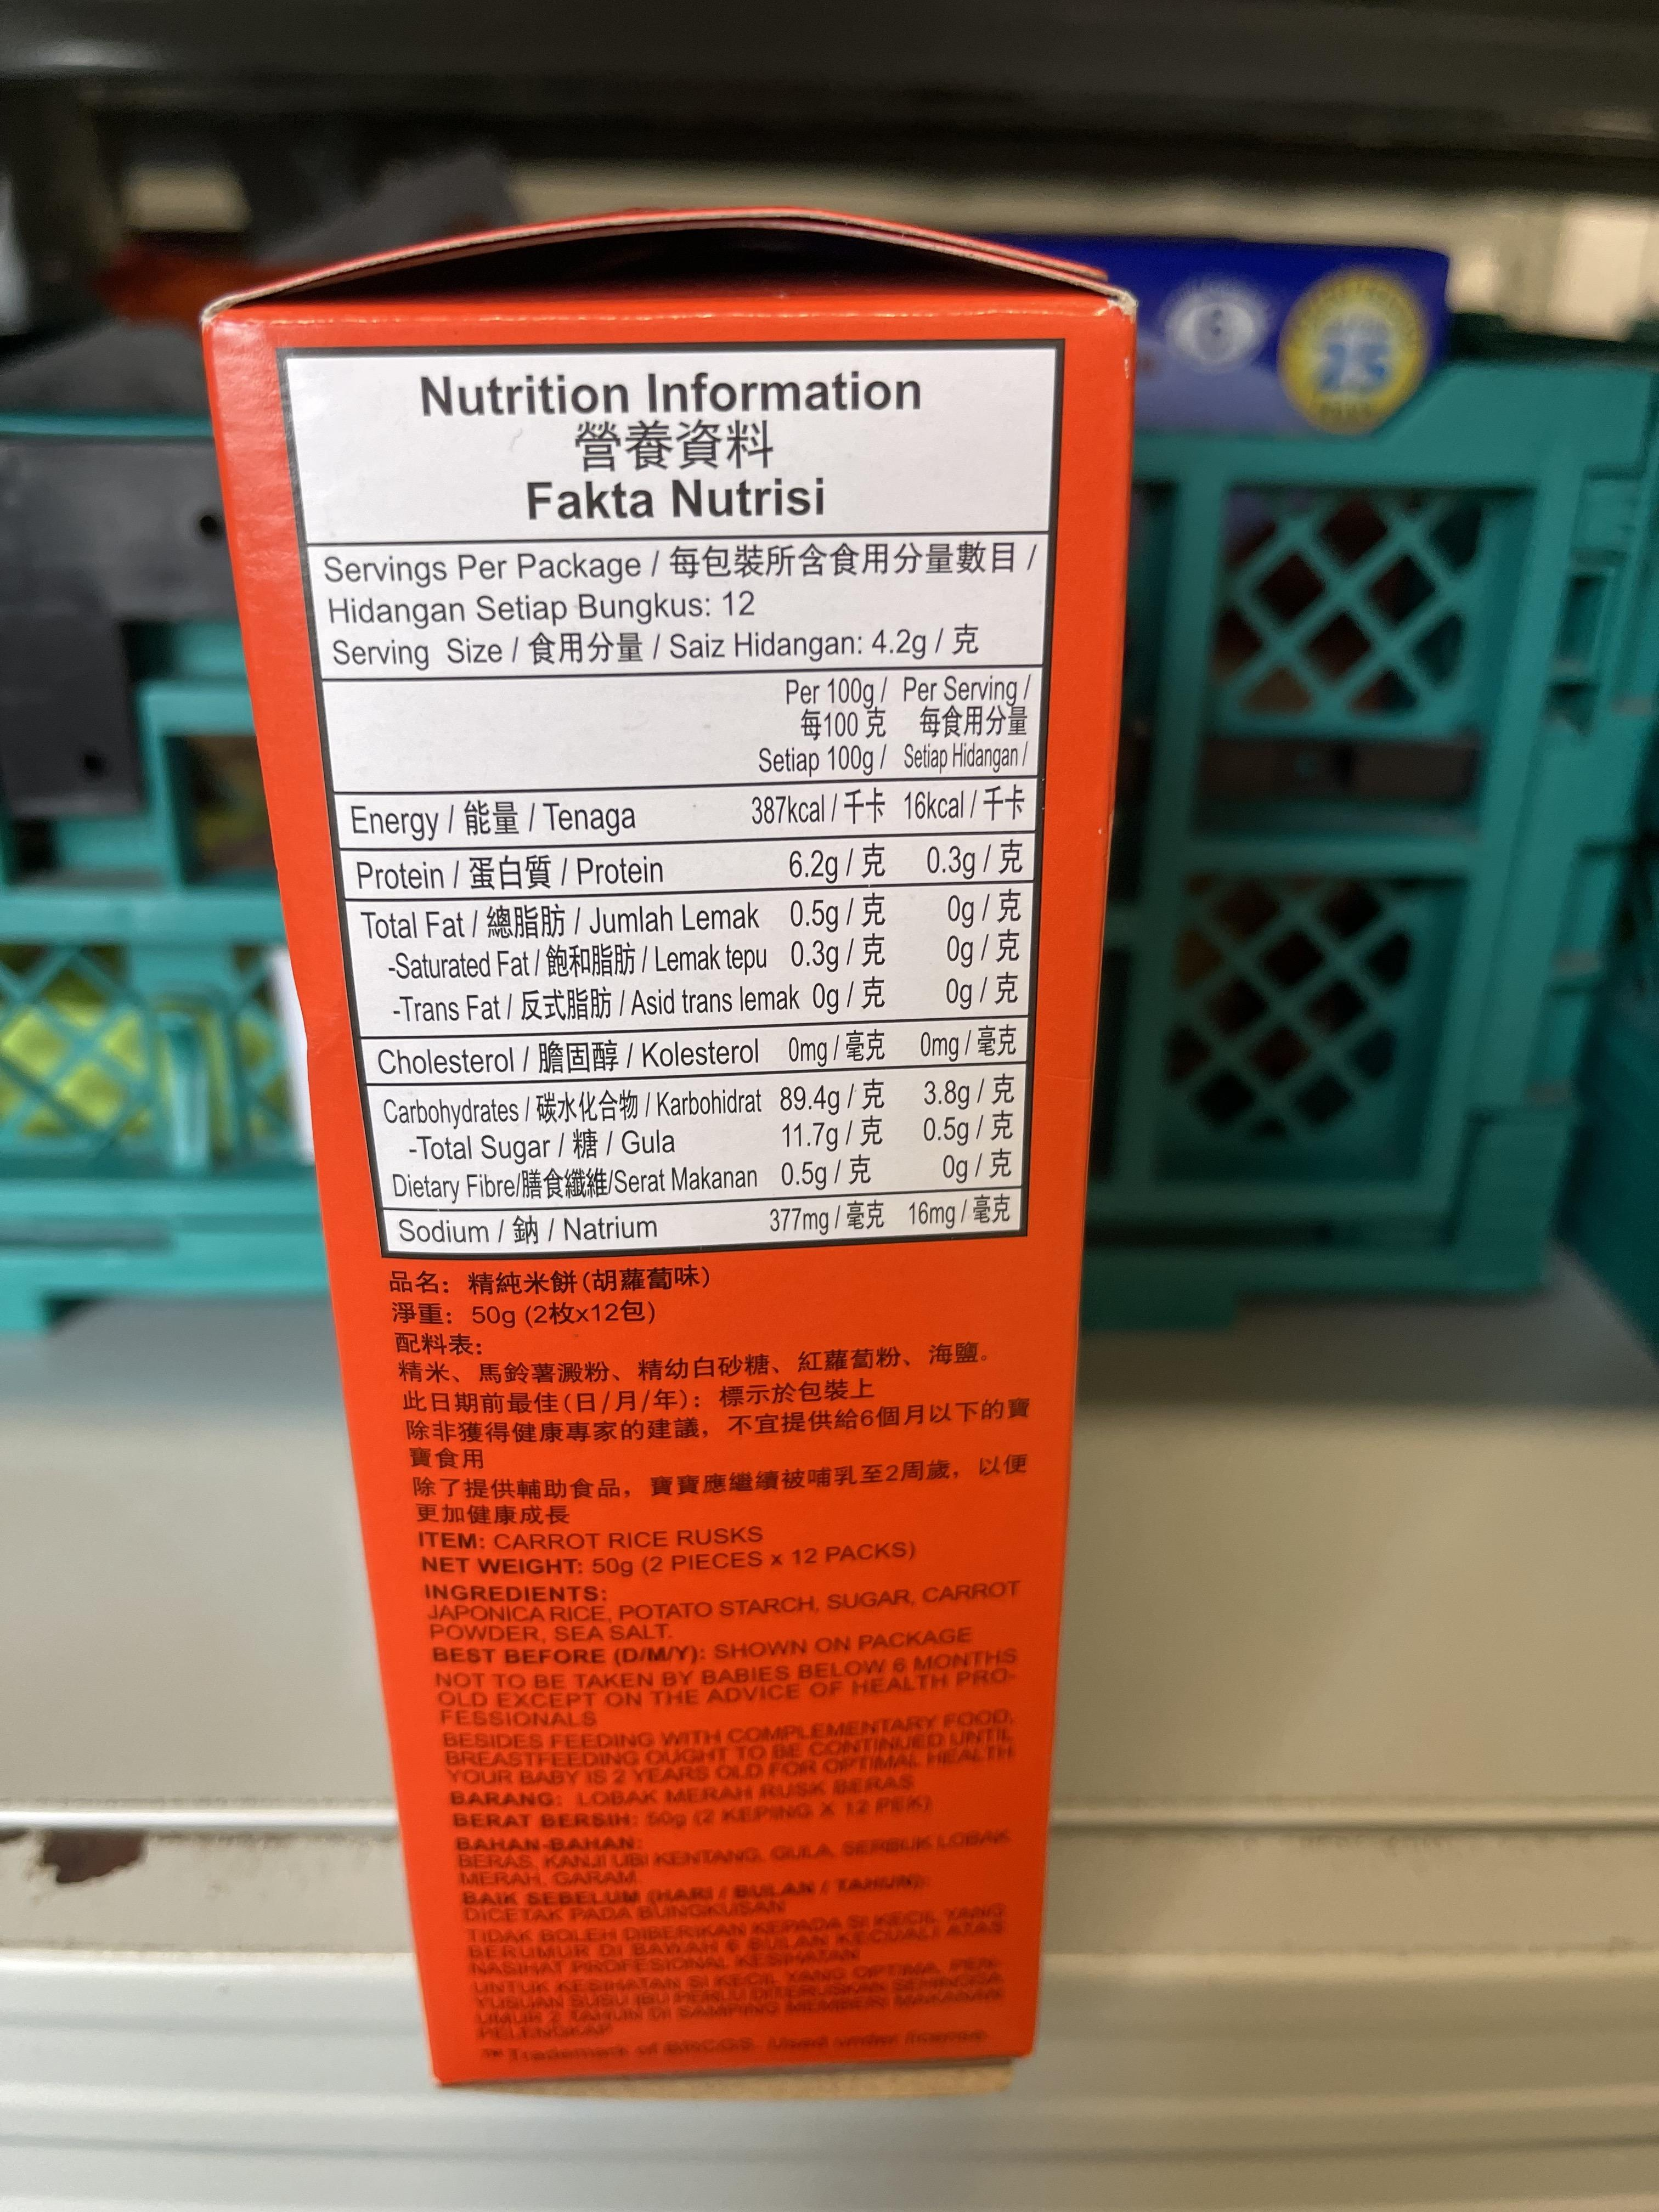object_name: (368, 329, 1070, 2050)
